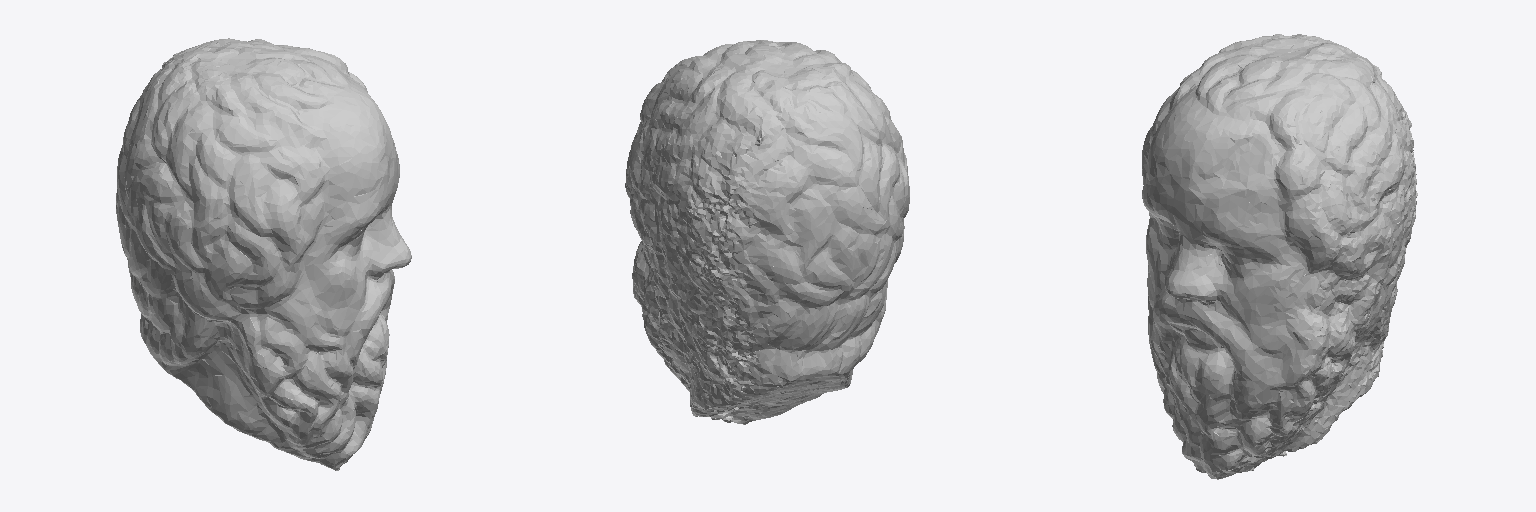
File: socrates.obj
3 renders of one model, left to right at view 1: azimuth 30°, elevation 25°; view 2: azimuth 150°, elevation 25°; view 3: azimuth 270°, elevation 25°, orthographic.
Parts seen in each view (by area): view 1: Default; view 2: Default; view 3: Default.
Part boxes in pixels (bbox=[...]): Default: bbox=[116, 38, 411, 470]; Default: bbox=[625, 40, 909, 424]; Default: bbox=[1142, 34, 1417, 479].
Bounding box in the file's own units: 16.7 × 25.81 × 16.37.